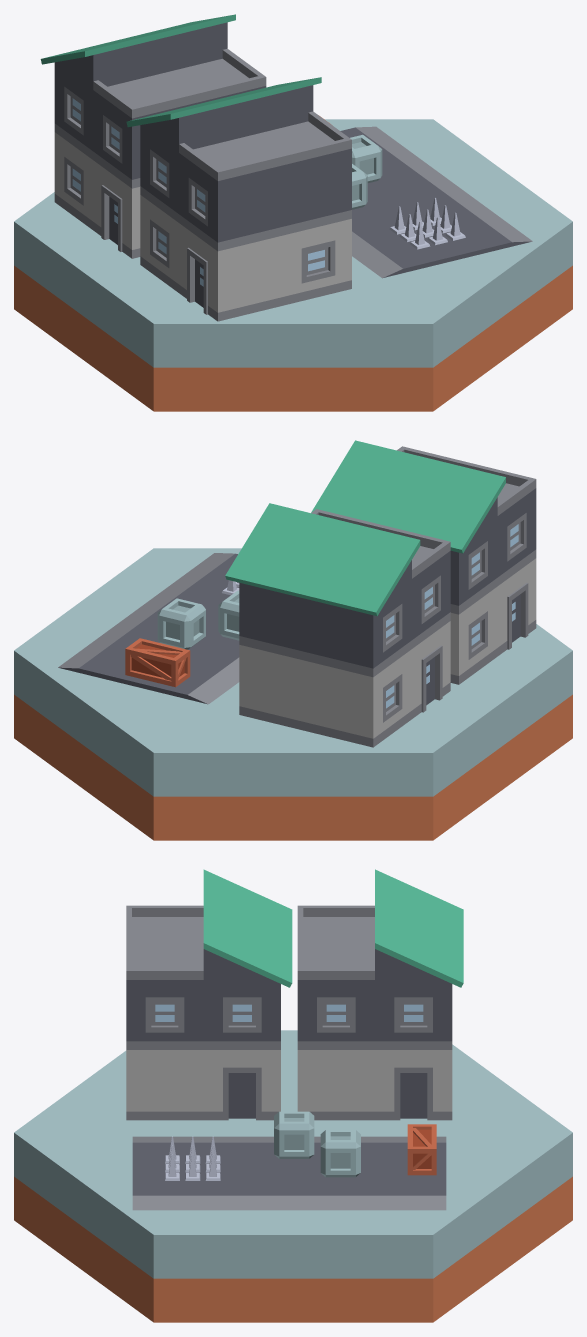
File: humanTileWarriorsHut.glb
3 renders of one model, top to bottom at view 1: azimuth 30°, elevation 25°; view 2: azimuth 150°, elevation 25°; view 3: azimuth 270°, elevation 25°, orthographic.
Parts seen in each view (by area): view 1: mergedBlocks(Clone); view 2: mergedBlocks(Clone); view 3: mergedBlocks(Clone).
Boxes of the visible parts, x1,y1,x2,y2 form: mergedBlocks(Clone): (14,14,572,411); mergedBlocks(Clone): (14,440,572,840); mergedBlocks(Clone): (14,869,572,1322).
Size of the model in its own units: 1 by 0.6134 by 1.15.
